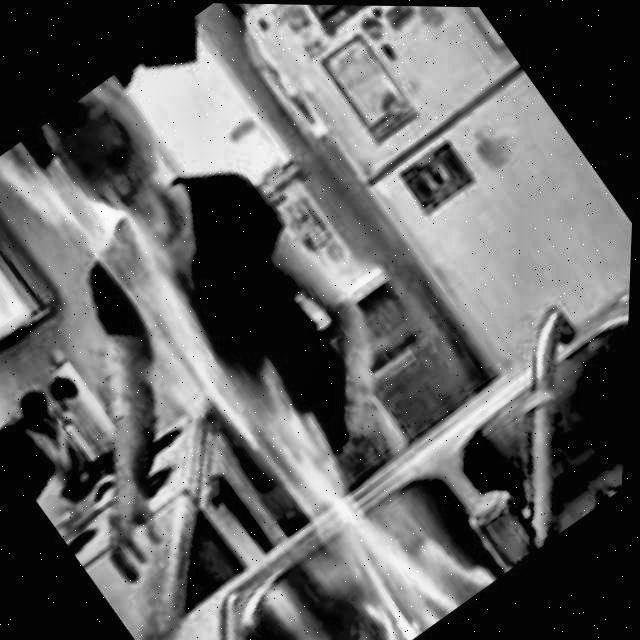Fire: (53, 151, 519, 640)
